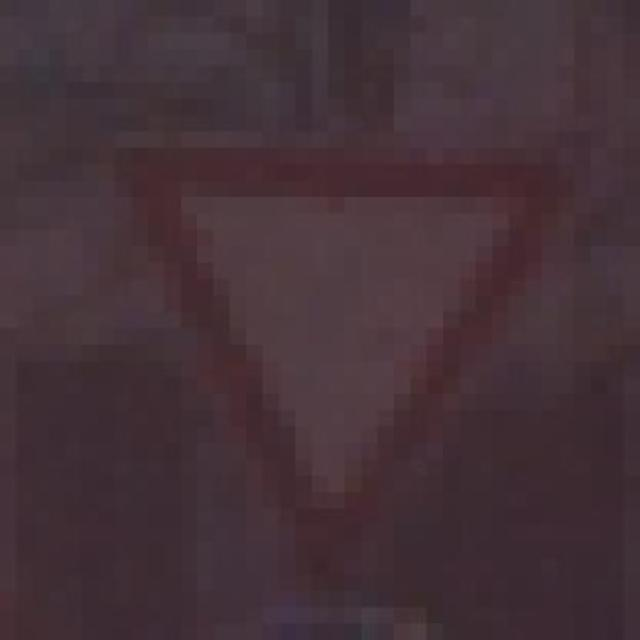Give Way: (98, 115, 574, 574)
